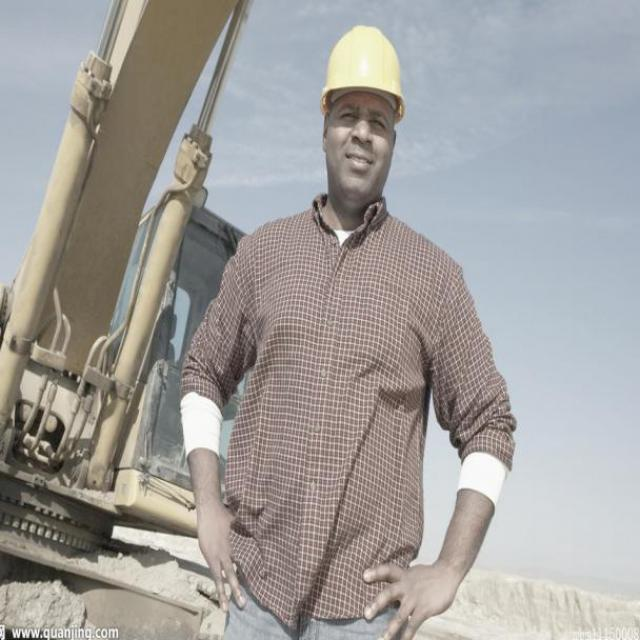helmet: (315, 0, 405, 226)
